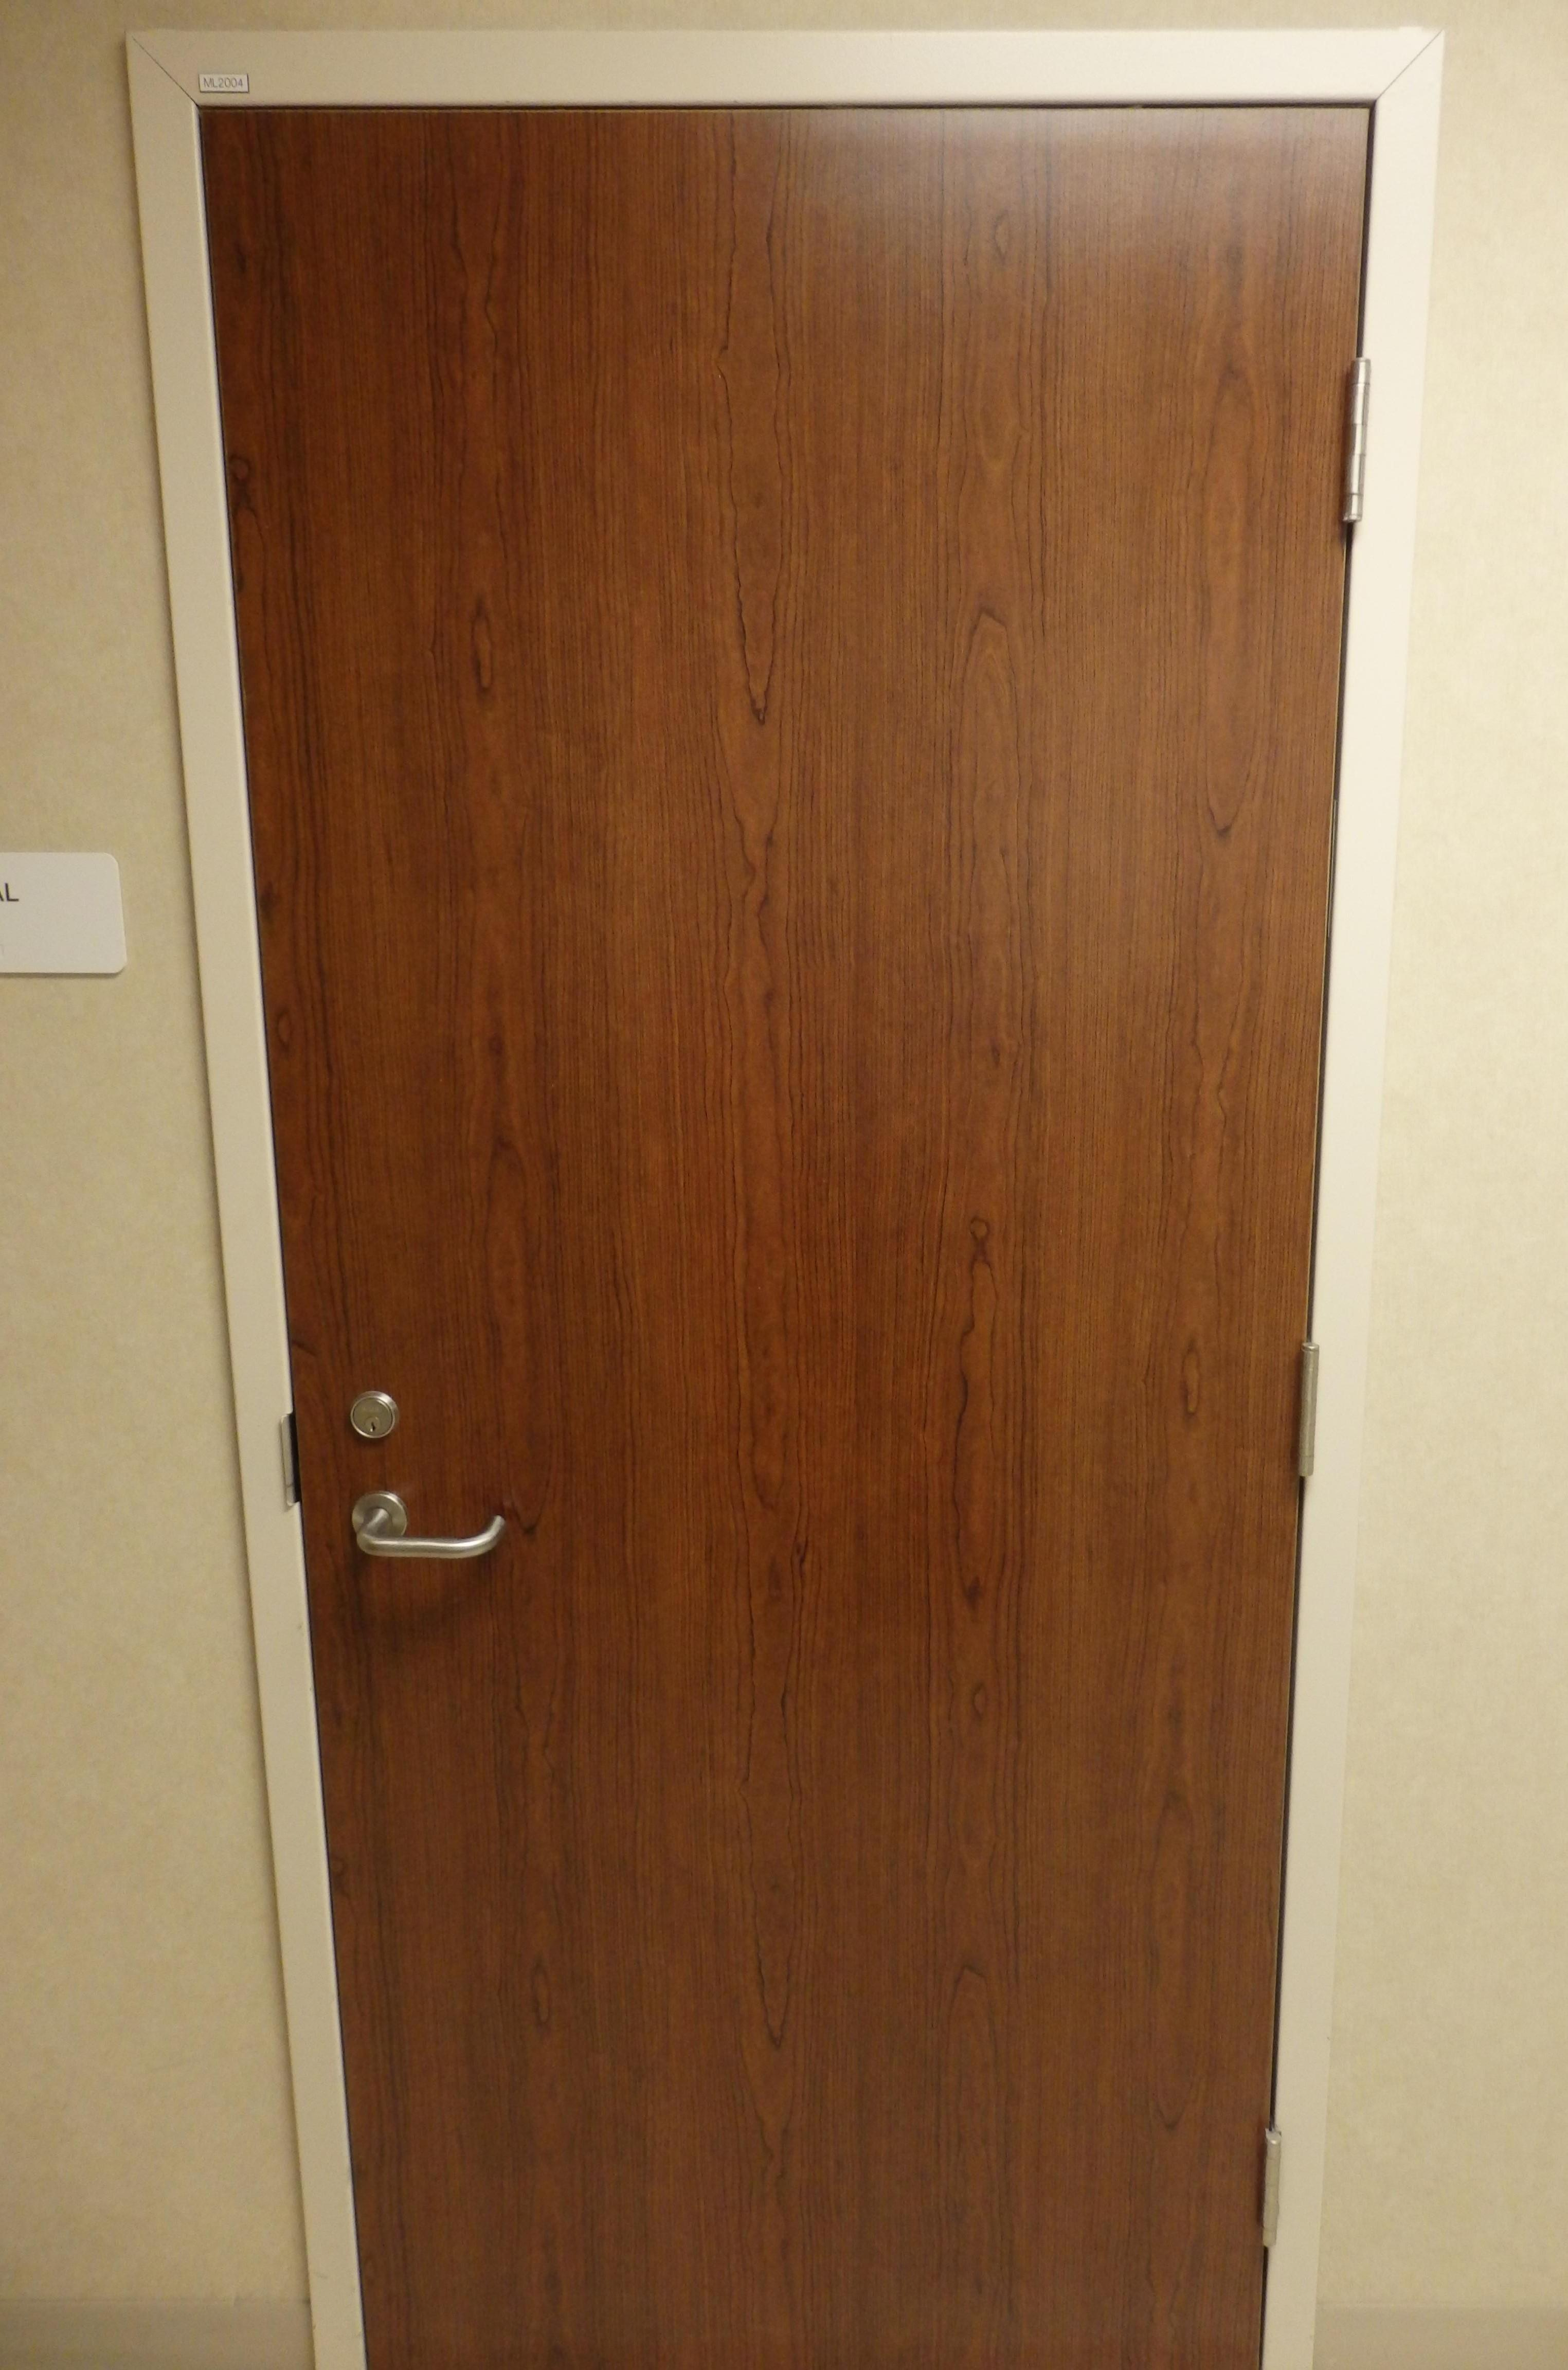door: (161, 65, 1391, 2361)
